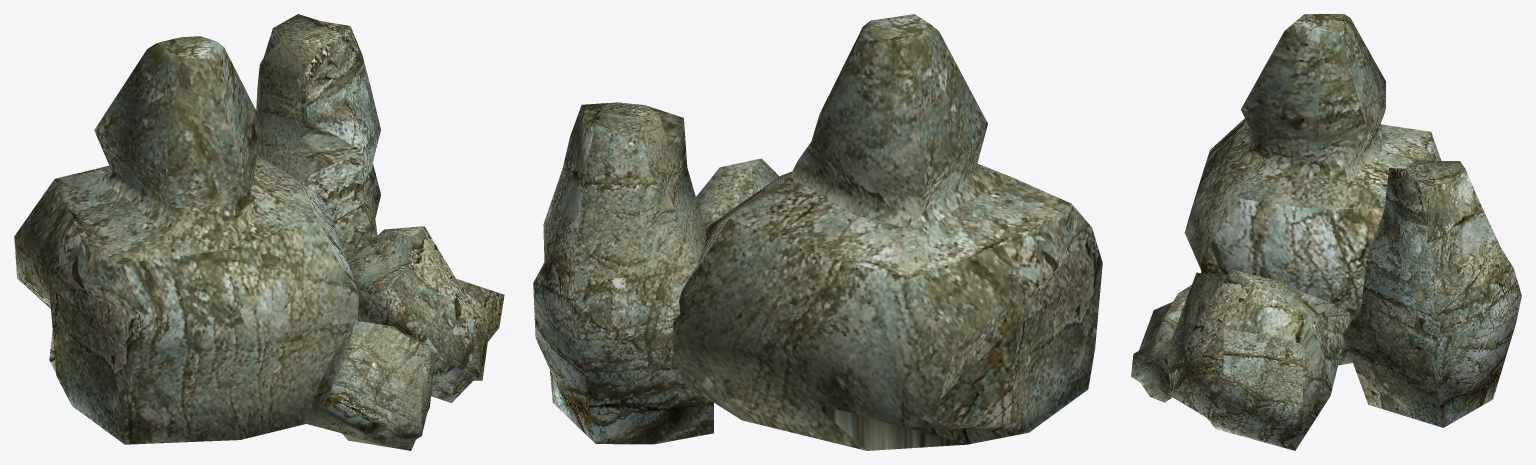
The model's file is geo_rock_set_02_temperate_stone_01.dae.
The picture shows the model from 3 angles, left to right: view 1: azimuth 30°, elevation 25°; view 2: azimuth 150°, elevation 25°; view 3: azimuth 270°, elevation 25°; orthographic projection. The views are drawn at different scales.
Visible parts, largest first — view 1: Cube_006; view 2: Cube_006; view 3: Cube_006.
Part boxes in pixels (box(x1,y1,x2,y2)): Cube_006: box(14, 14, 504, 450); Cube_006: box(533, 14, 1102, 450); Cube_006: box(1131, 14, 1521, 450).
Size of the model in its own units: 6.62 by 6.33 by 6.02.
1 material, 1 textured.
